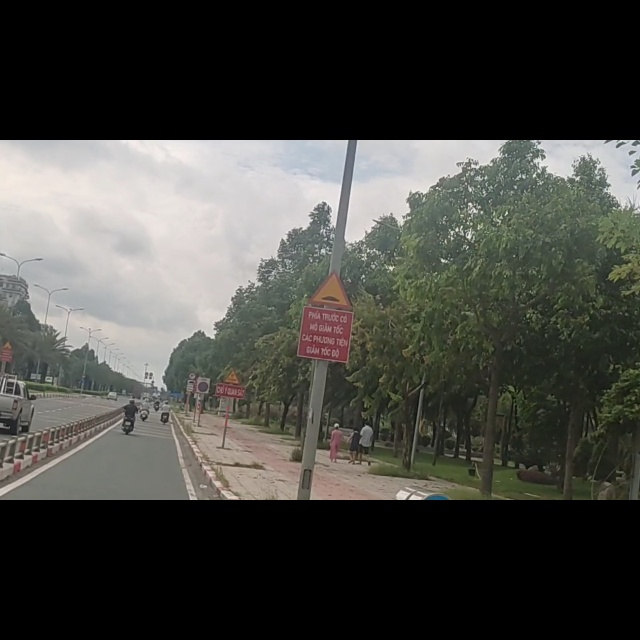bien_nguy_hiem: (307, 228, 356, 301), (223, 405, 243, 435)
